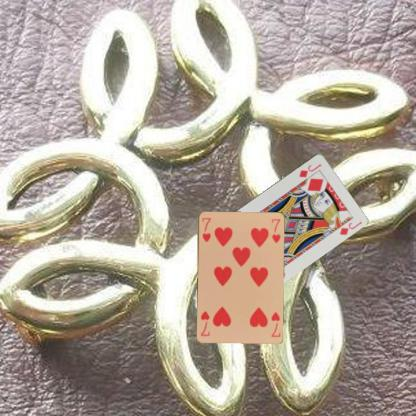7h: (199, 215, 212, 243), (269, 309, 280, 338)
Jd: (296, 161, 323, 179)
